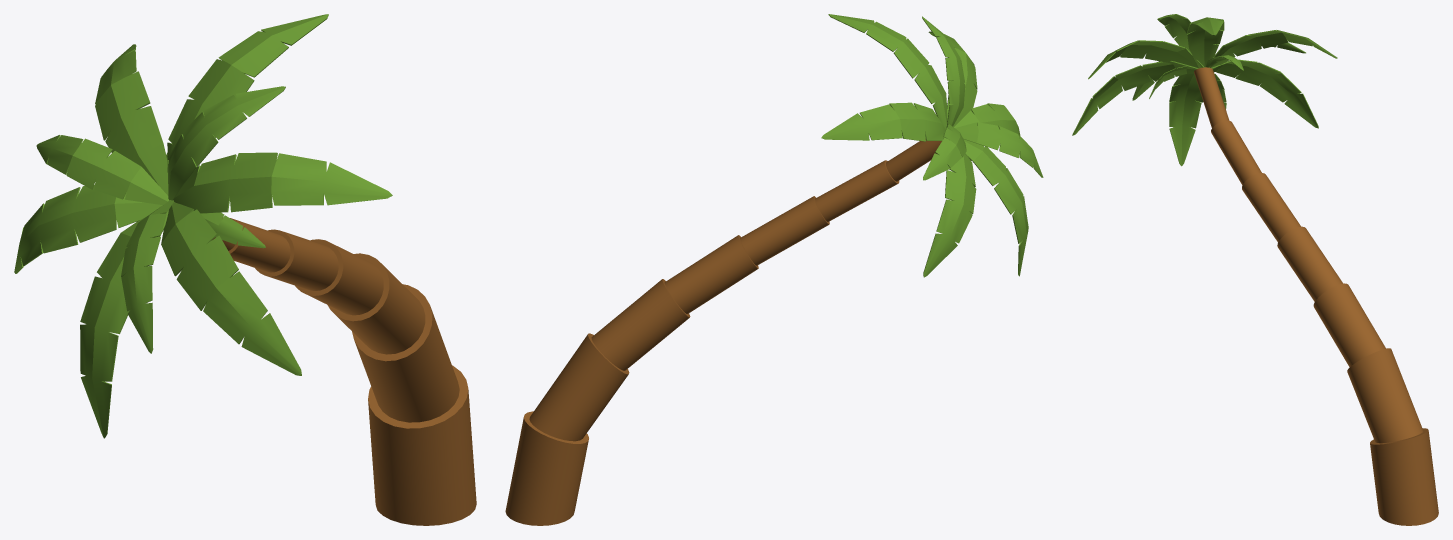
File: Palm3.fbx
3 renders of one model, left to right at view 1: azimuth 30°, elevation 25°; view 2: azimuth 150°, elevation 25°; view 3: azimuth 270°, elevation 25°, orthographic. The views are drawn at different scales.
Parts seen in each view (by area): view 1: Palm; view 2: Palm; view 3: Palm.
Part boxes in pixels (x1,y1,x2,y2): Palm: [14, 14, 476, 525]; Palm: [505, 14, 1043, 525]; Palm: [1072, 14, 1438, 525].
Size of the model in its own units: 299 by 339 by 280.
